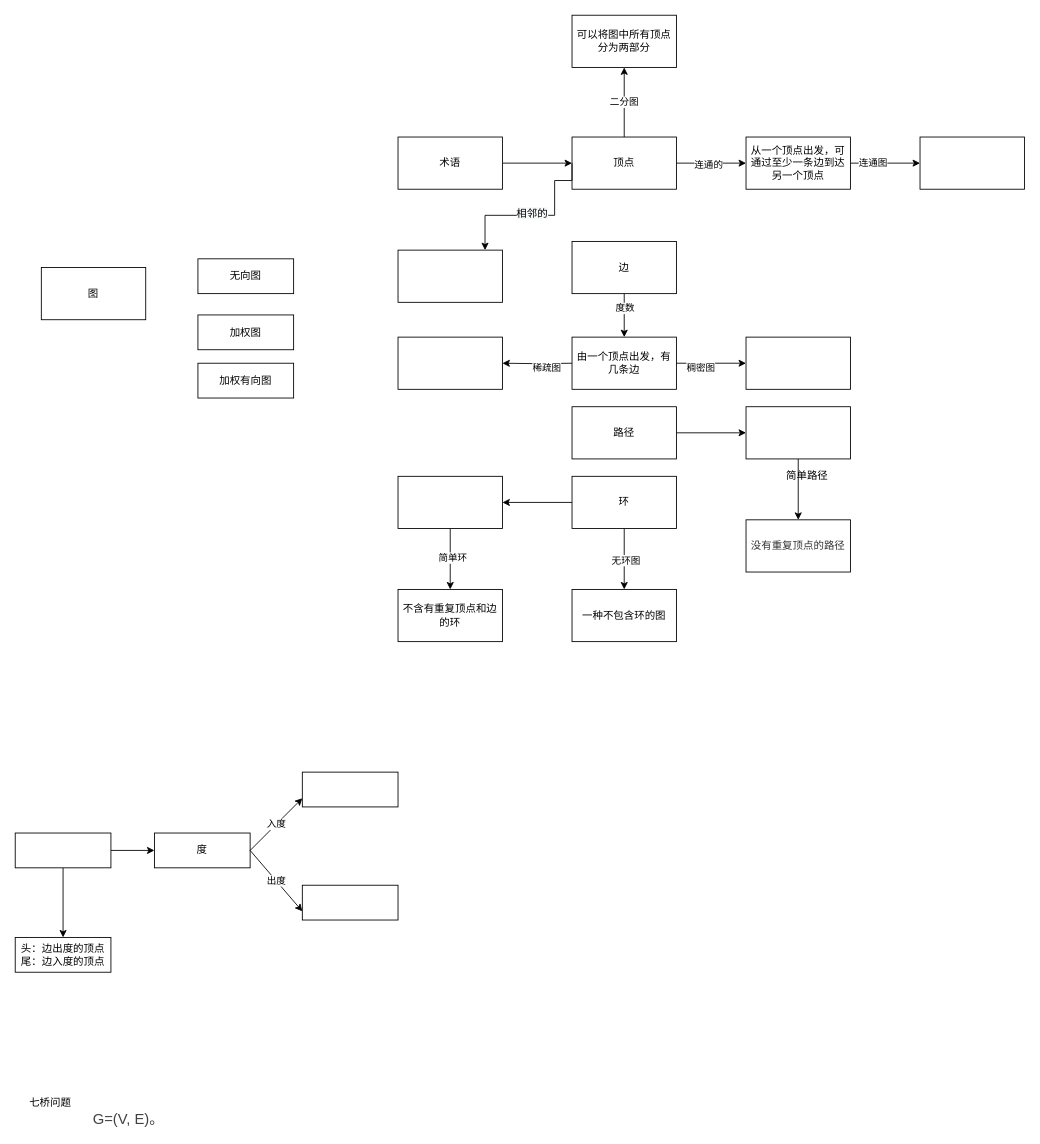
Some shapes in this 1040 by 1144 pixel diagram are drawn without their labels. The centre of each missing label's shape, as x and y in pixels:
一个边两头的节点称为相邻顶点: point (449, 275)
图中任意一个顶点，可通过一条边到达另一个任意顶点: point (971, 162)
指一个顶点边的总数: point (349, 902)
有向图: point (62, 850)
每个顶点的度数都不高: point (449, 362)
每个顶点的度数都很高: point (797, 362)
由一个顶点出发的总边数: point (349, 789)
至少有一条边，且起点和终点相同: point (449, 502)
通过边来连接，按顺序的从一个顶点到另一个顶点中间经过的顶点集合: point (797, 432)
